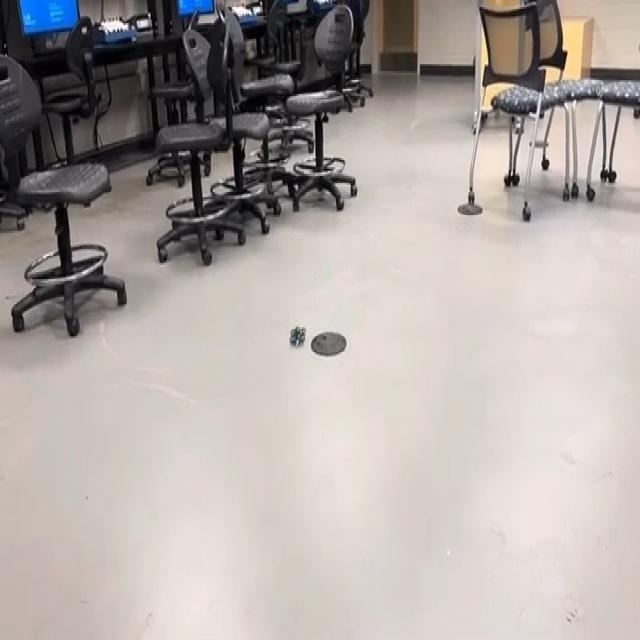drone: (286, 313, 309, 355)
